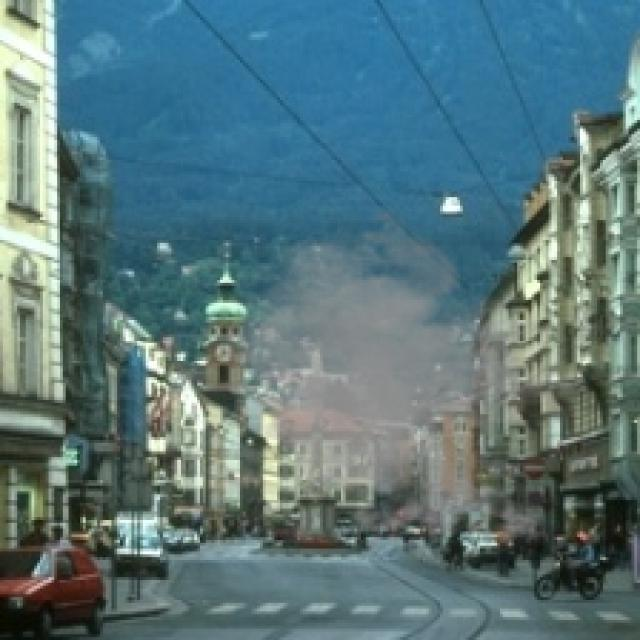Smoke: (208, 206, 608, 554)
